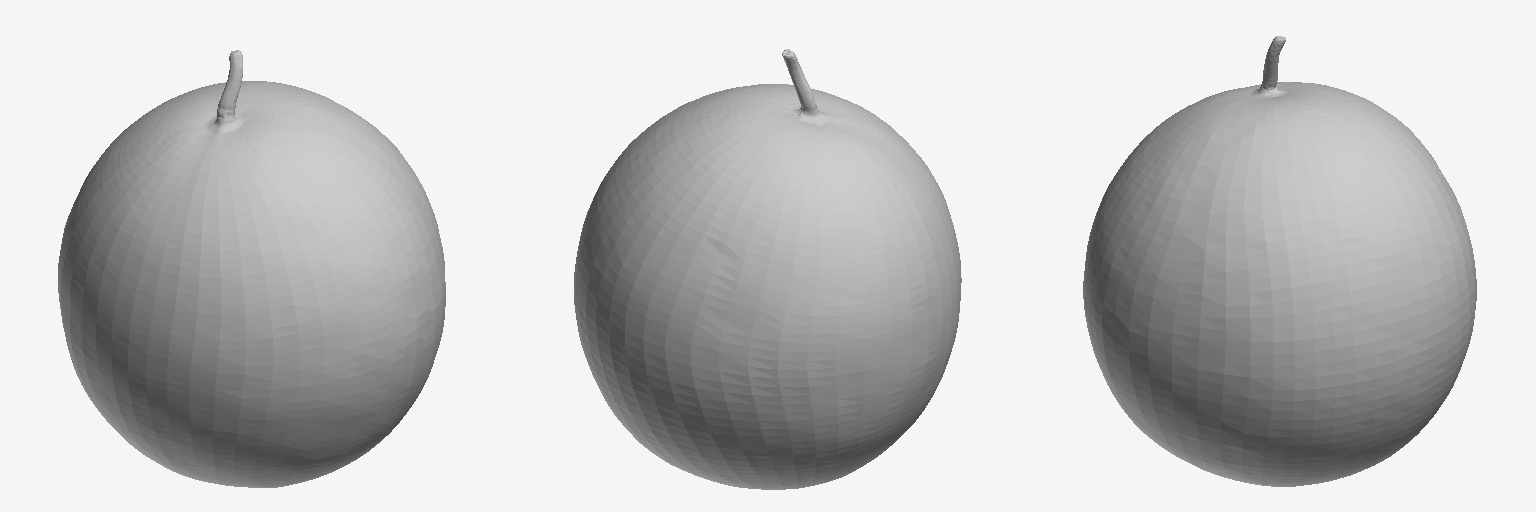
File: melon.obj
3 renders of one model, left to right at view 1: azimuth 30°, elevation 25°; view 2: azimuth 150°, elevation 25°; view 3: azimuth 270°, elevation 25°, orthographic.
Visible parts, largest first — view 1: SMK_JJ0KQAO2_Watermelon; view 2: SMK_JJ0KQAO2_Watermelon; view 3: SMK_JJ0KQAO2_Watermelon.
Part boxes in pixels (bbox=[...]): SMK_JJ0KQAO2_Watermelon: bbox=[58, 50, 445, 487]; SMK_JJ0KQAO2_Watermelon: bbox=[574, 49, 961, 489]; SMK_JJ0KQAO2_Watermelon: bbox=[1083, 36, 1476, 486].
Bounding box in the file's own units: 0.3412 × 0.4092 × 0.3474.